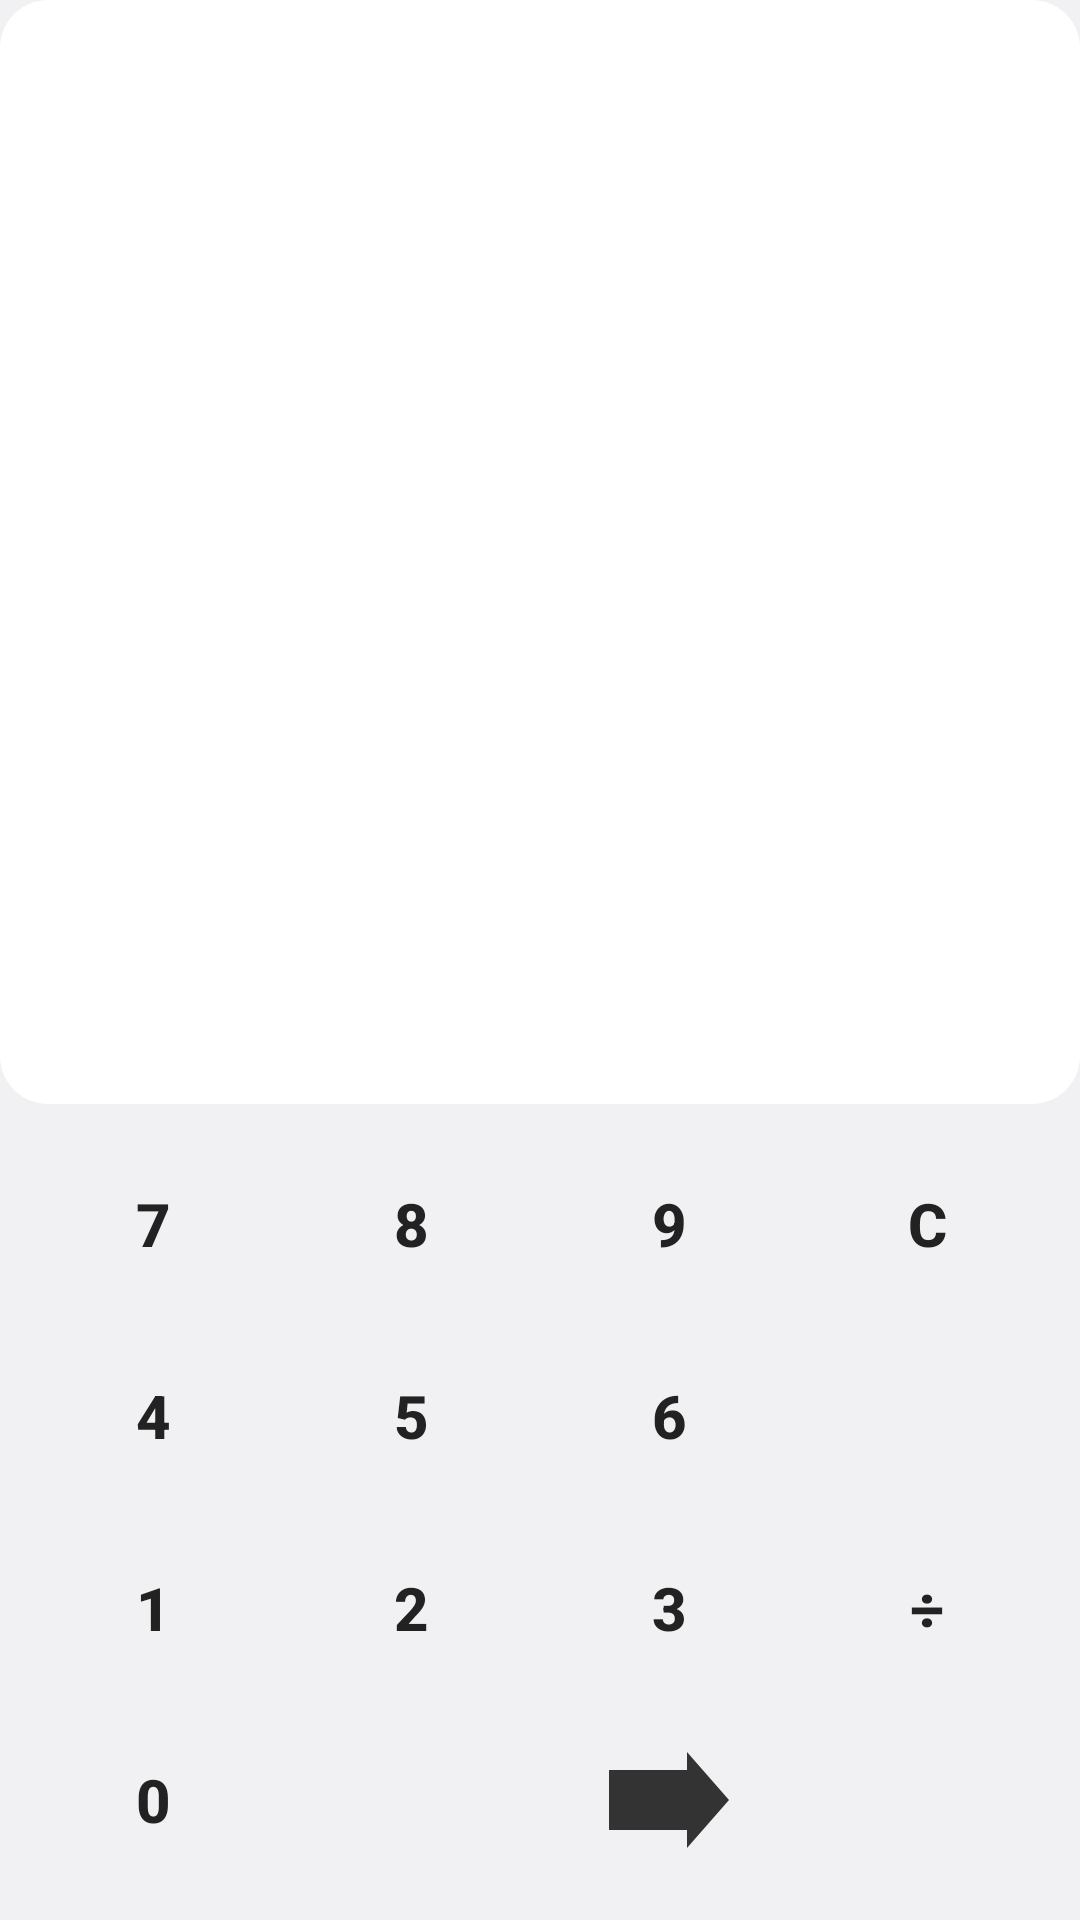

Where to tap for icons on this 1080px x 1920px app screen, as (x,y):
Send: (669,1800)
